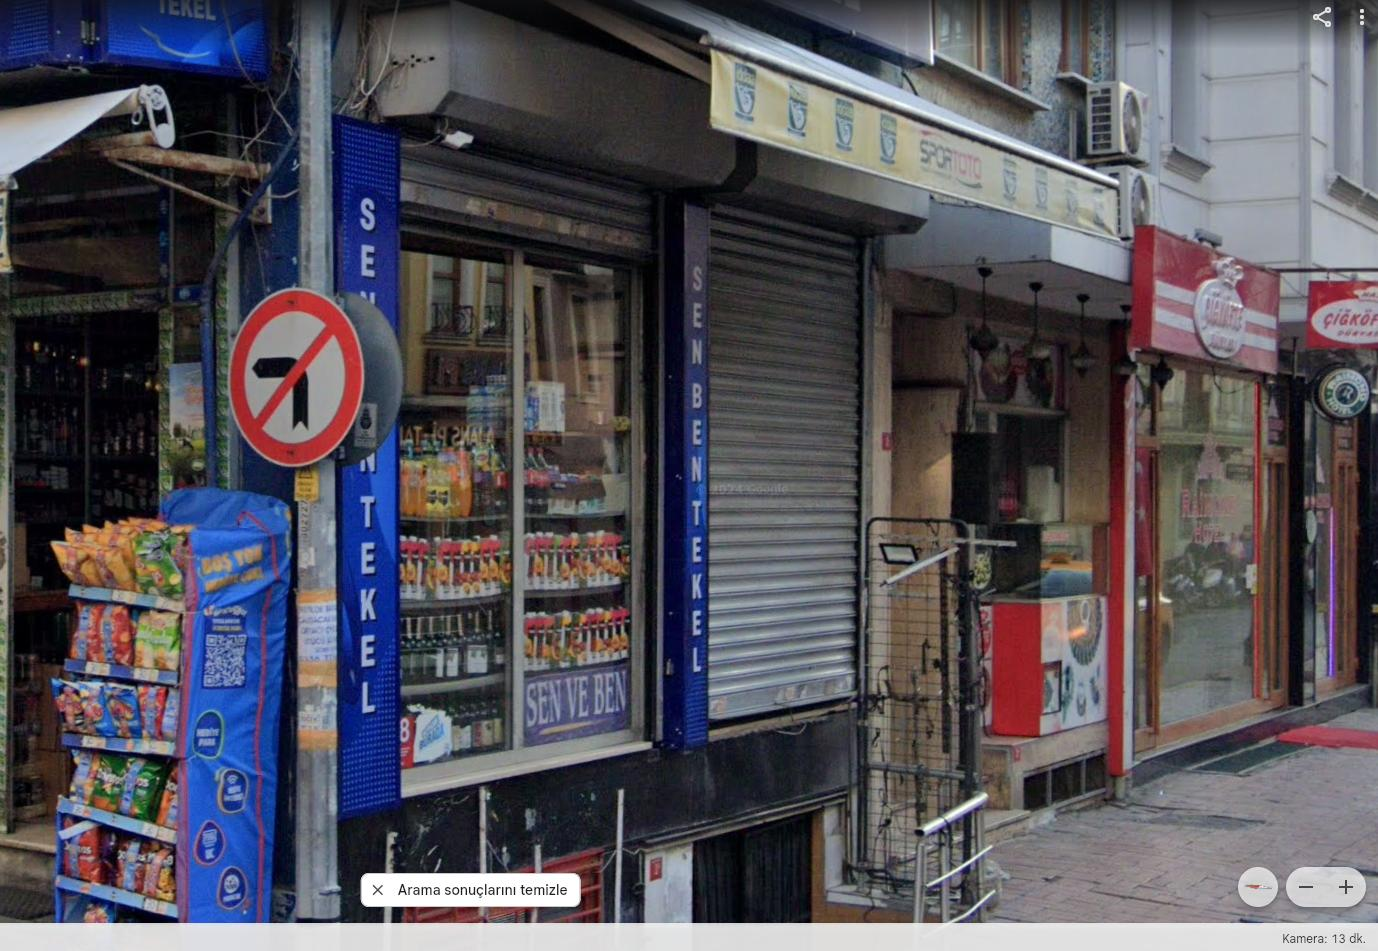leftturnsareforbidden: (223, 288, 378, 468)
